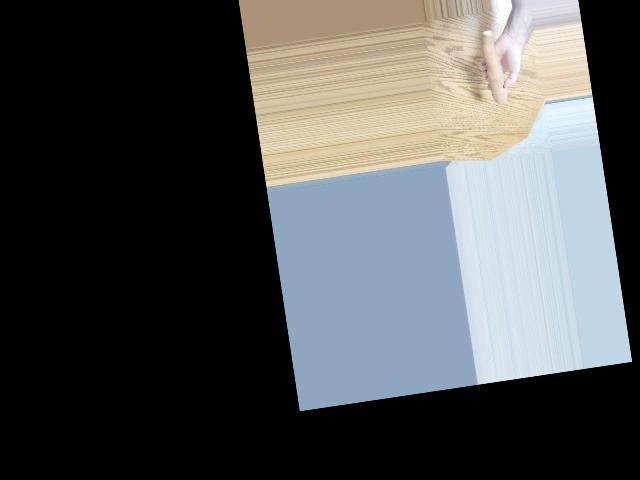sweet_potato: (476, 35, 505, 106)
